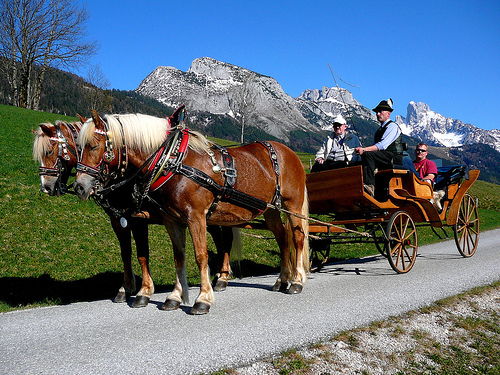horse: (77, 105, 309, 315), (32, 118, 240, 306)
